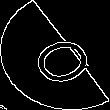O_NE: (15, 23, 95, 87)
